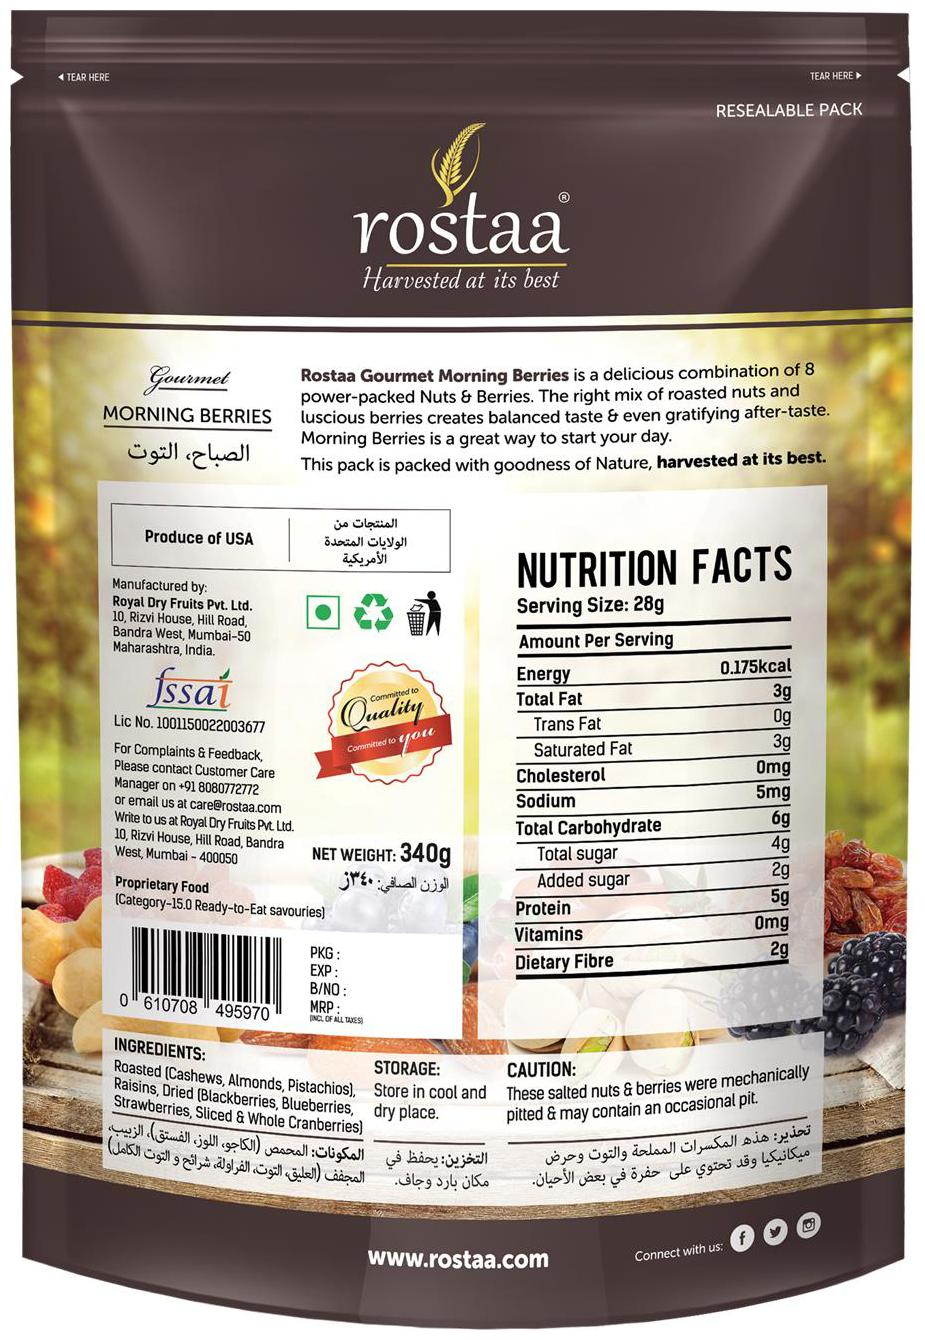fssai: (145, 661, 238, 711)
